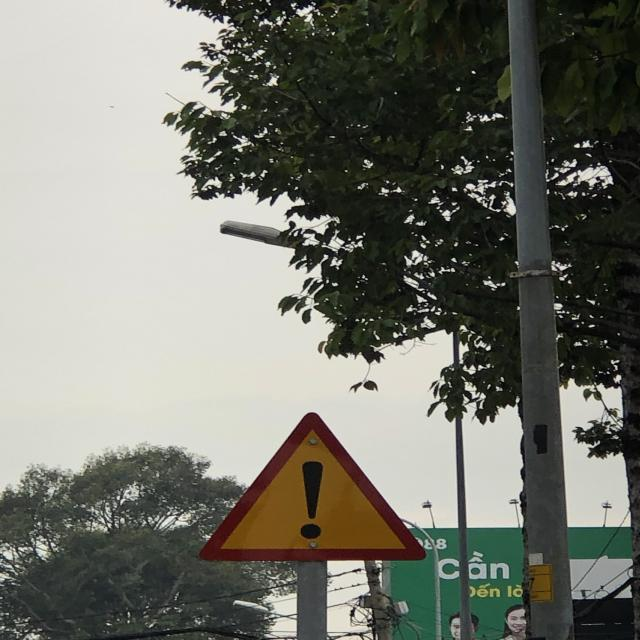Bien bao nguy hiem khac: (194, 406, 432, 564)
